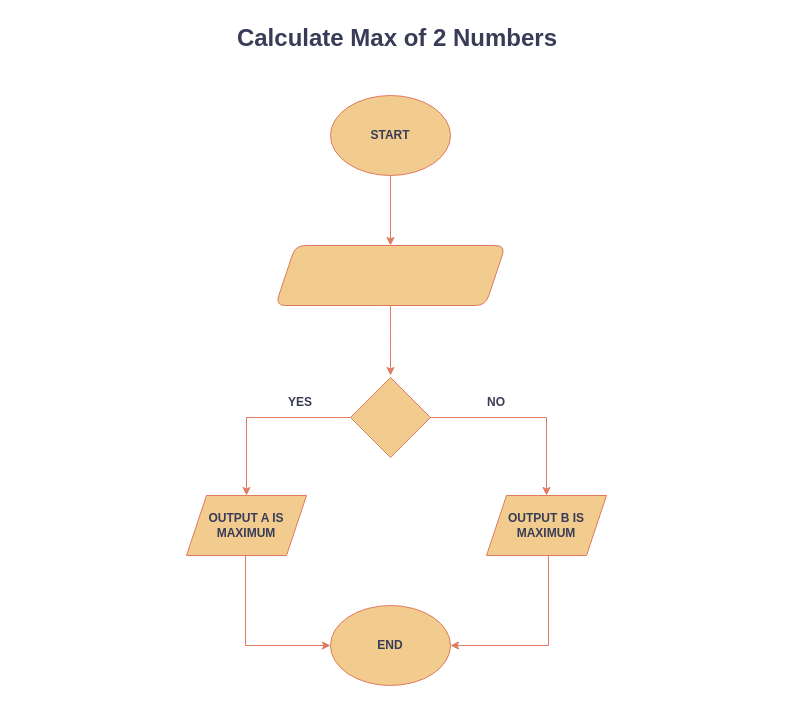
This 794x703 diagram has some shape labels left out. The centre of each missing label's shape, as x and y in pixels:
IF A > B: pixel 390 417
INPUT A, B: pixel 390 275
